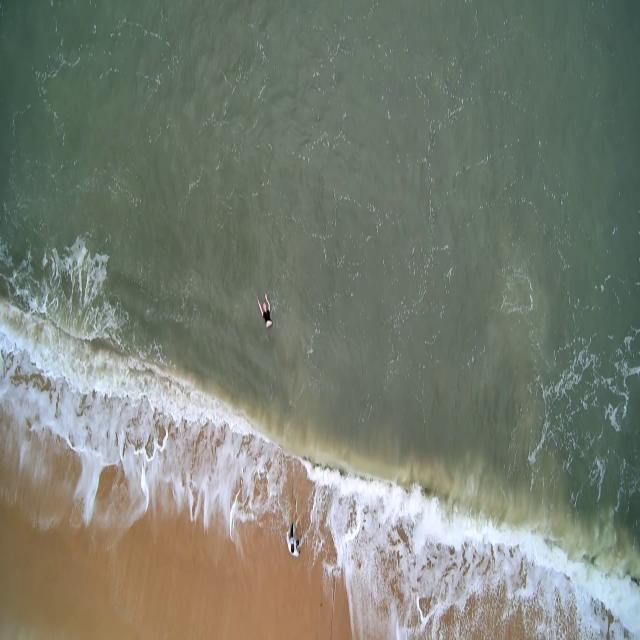dummy: (258, 292, 274, 330)
